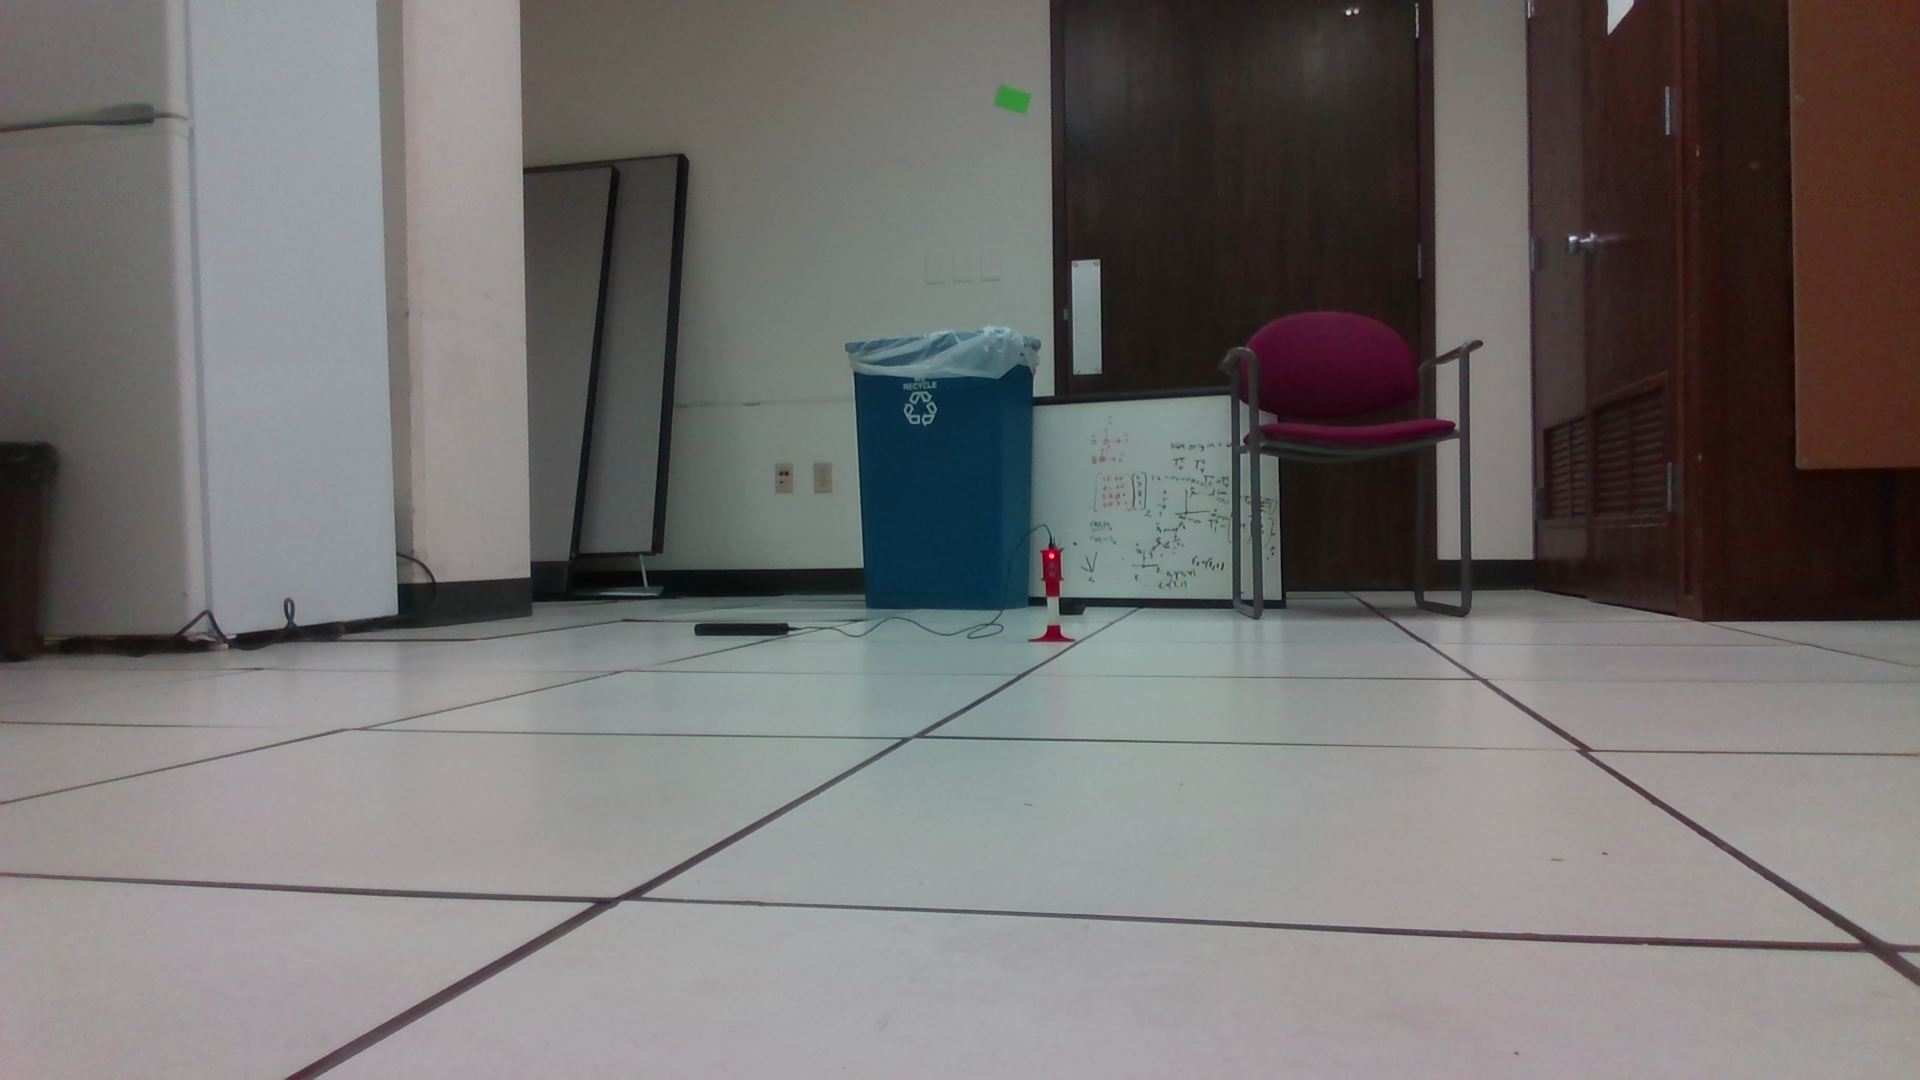stoplight: (1040, 541, 1064, 597)
